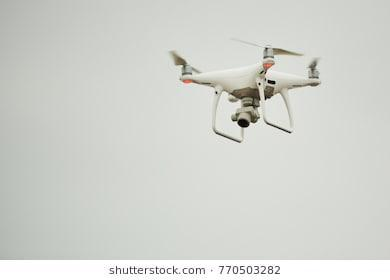drone: (154, 34, 345, 149)
